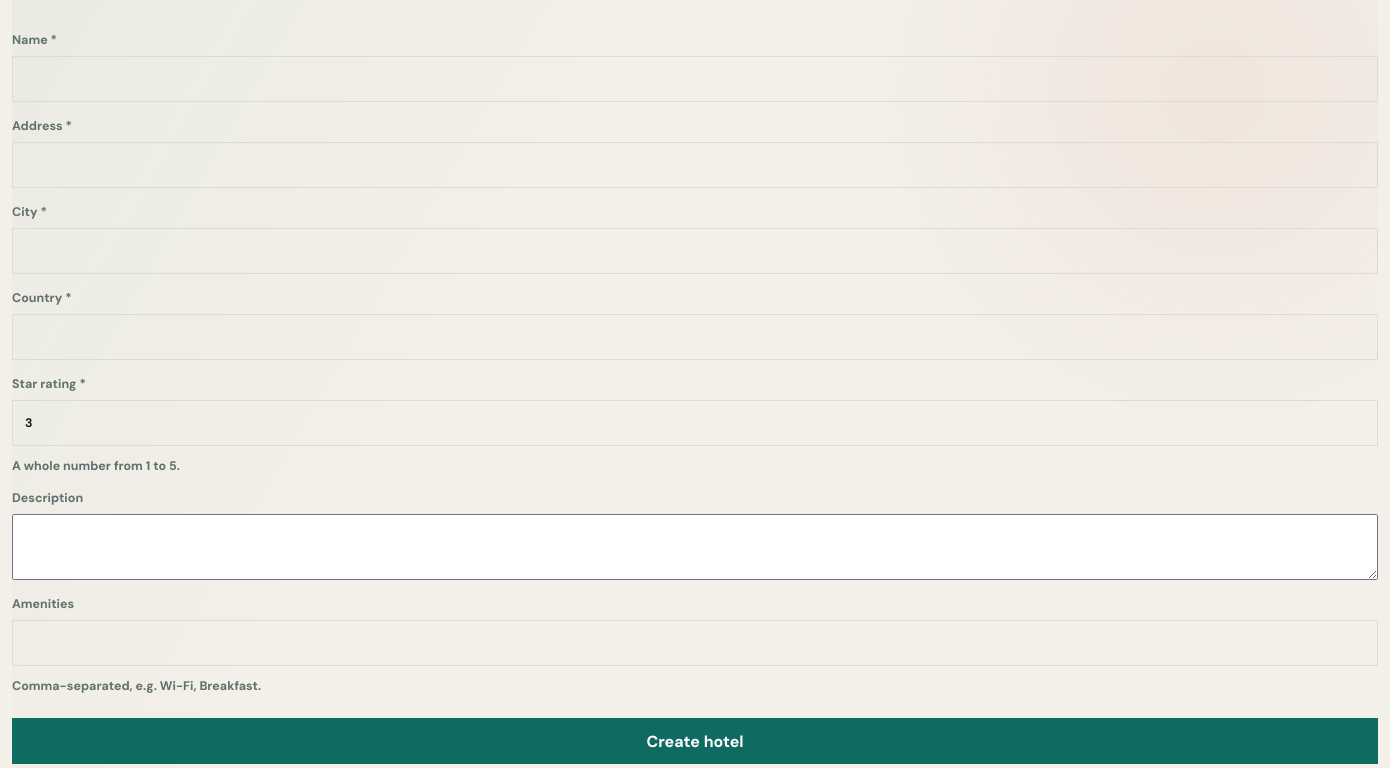
it: AdminForm (hotel) › maps backend validation violations onto fields
Type "Inn" into the field labelled "Name *" at (695, 79), box [12,56,1378,102]
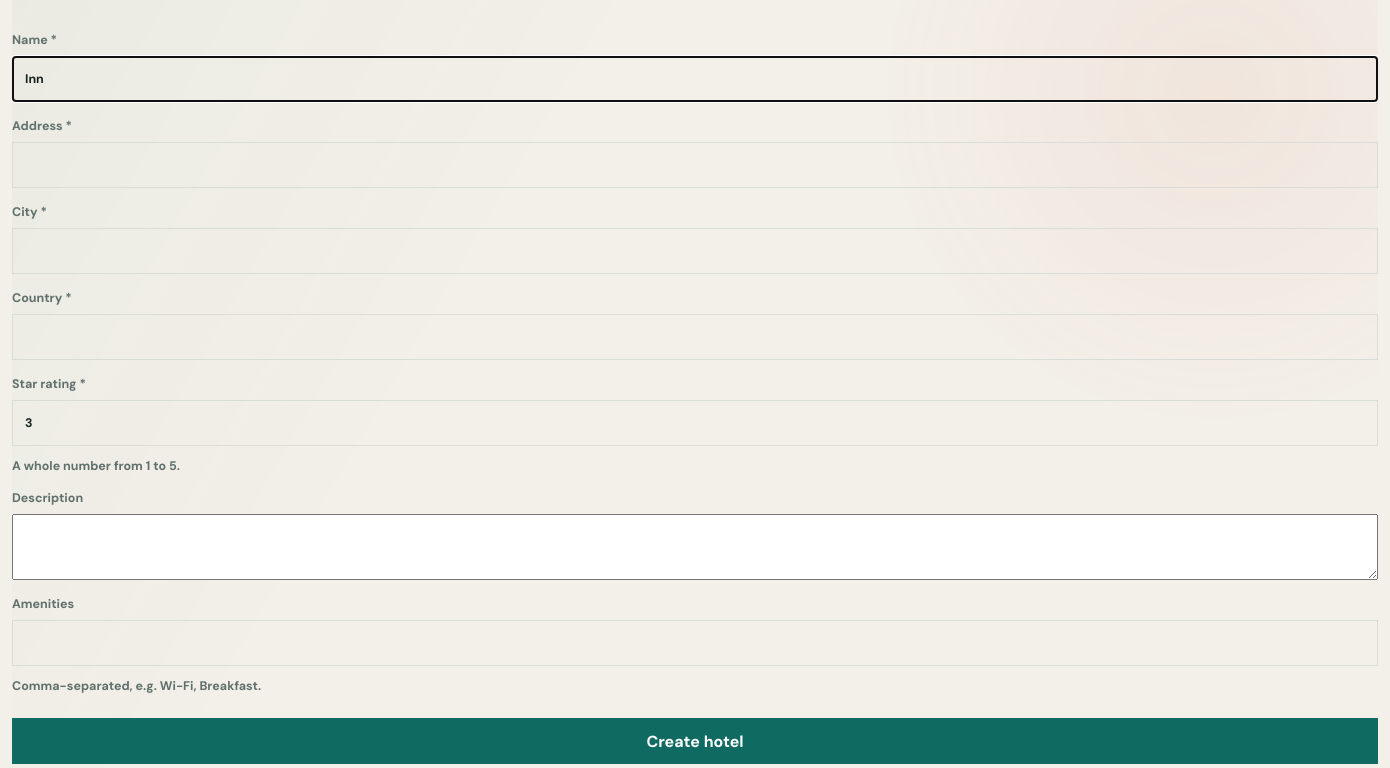
Type "1 Main St" into the field labelled "Address *" at (695, 165), box [12,142,1378,188]
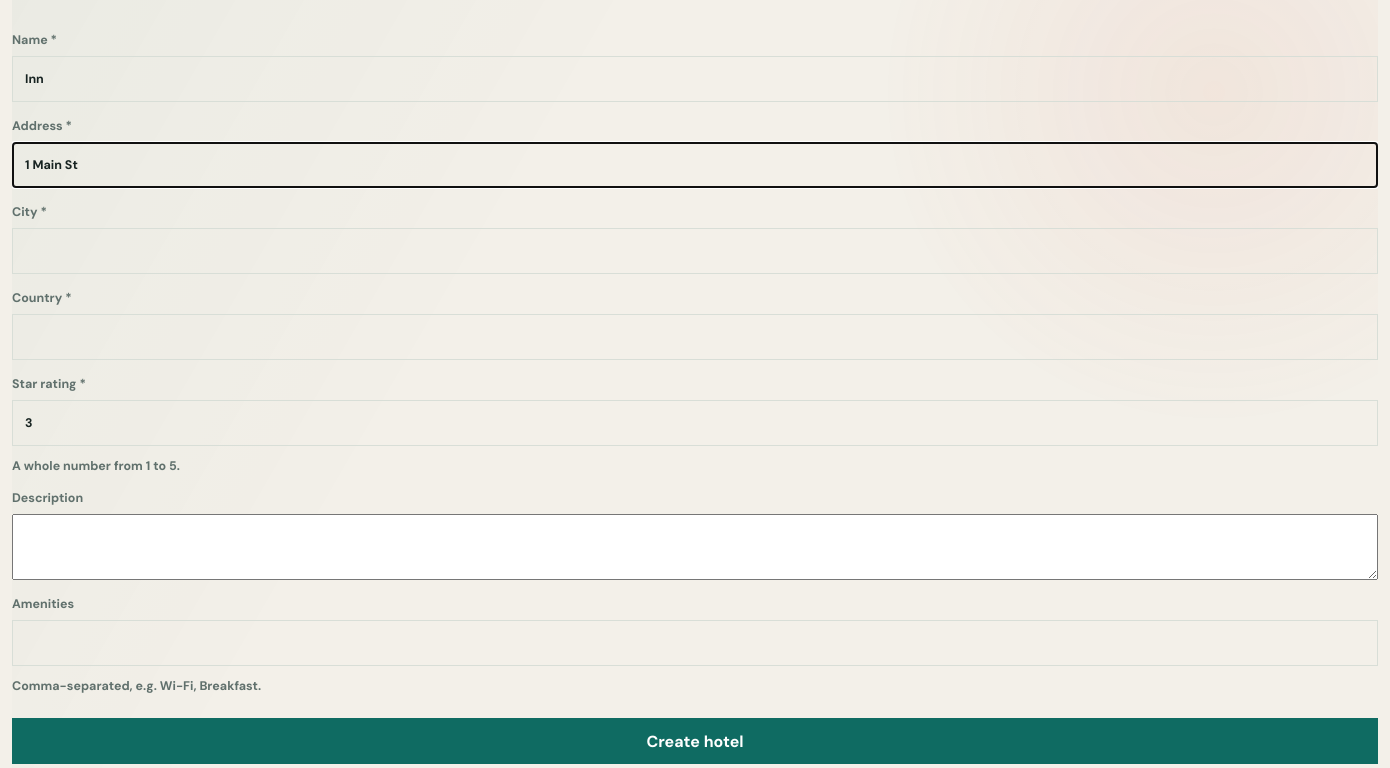
Type "Oslo" into the field labelled "City *" at (695, 251), box [12,228,1378,274]
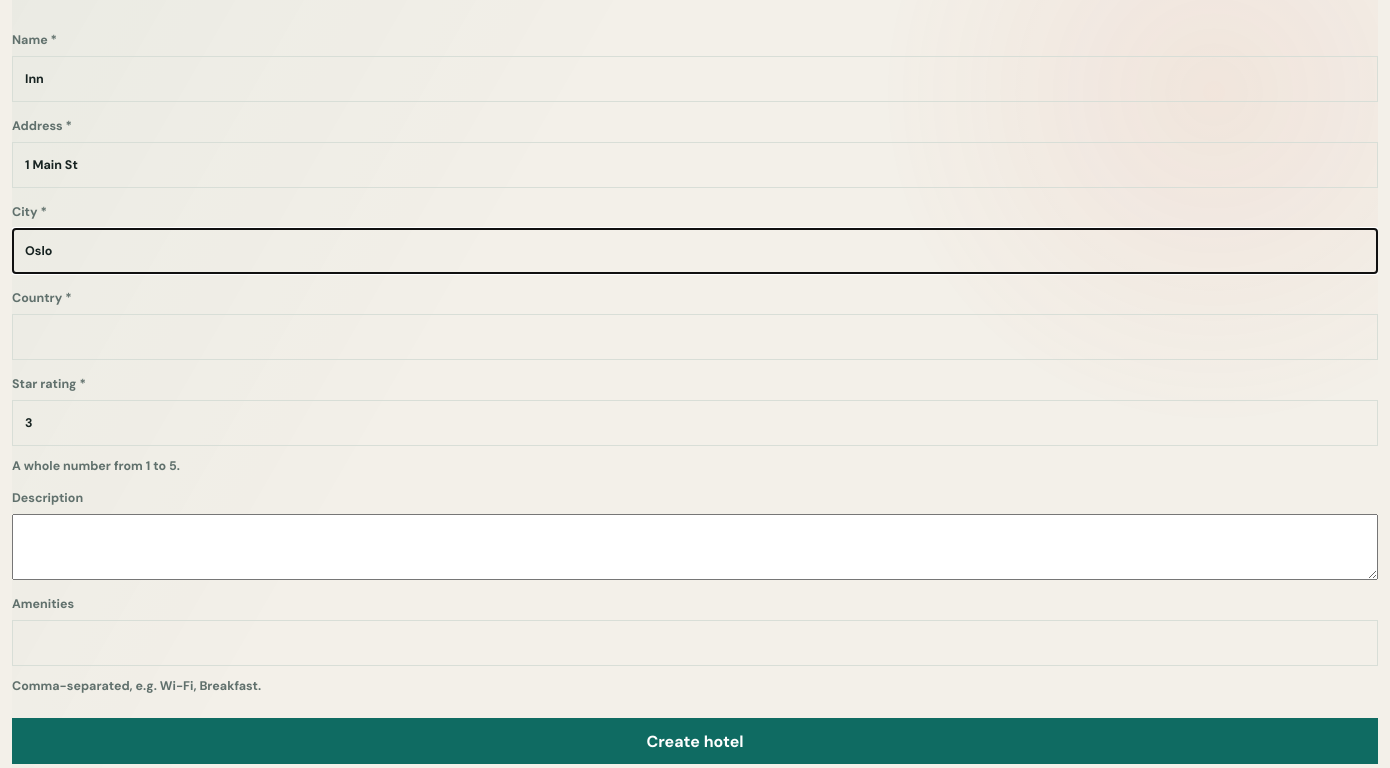
Type "Norway" into the field labelled "Country *" at (695, 337), box [12,314,1378,360]
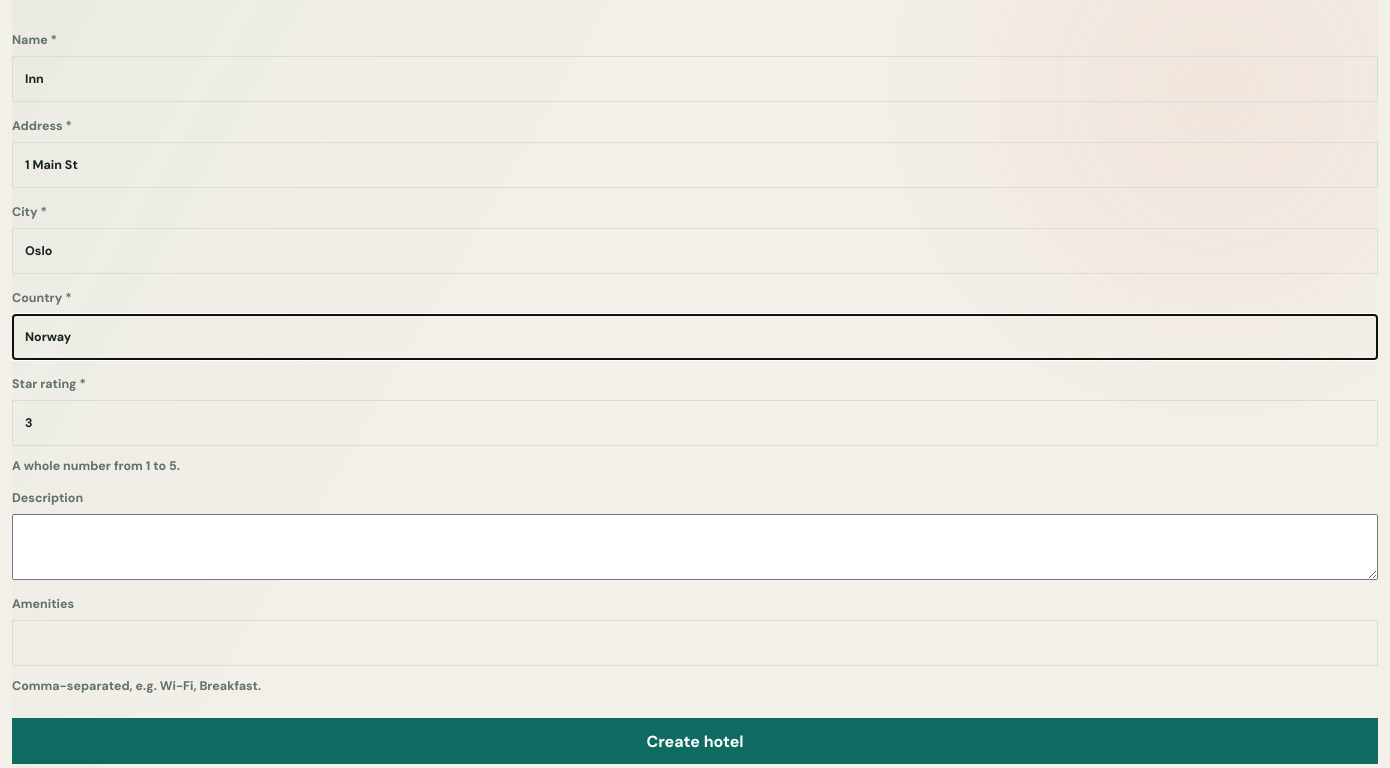
Click the button "Create hotel" at (695, 741), box [12,718,1378,764]
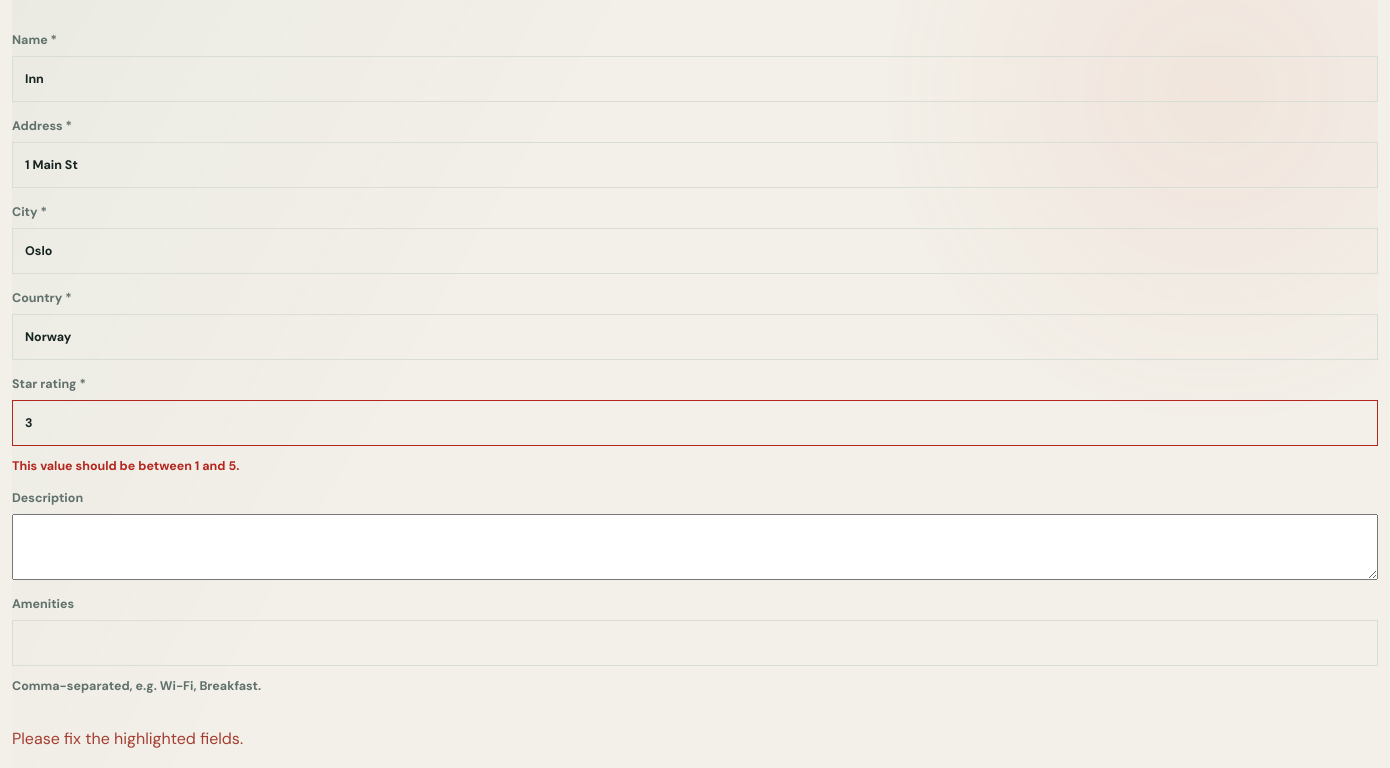
Now the text "This value should be between 1 and 5." is shown, box [12,458,239,474]
